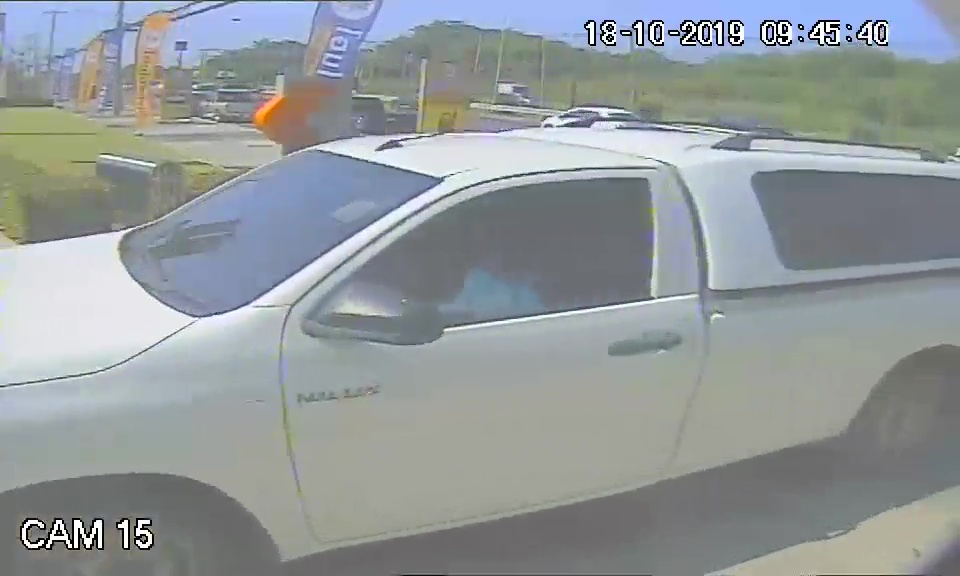pickup: (3, 125, 960, 510)
